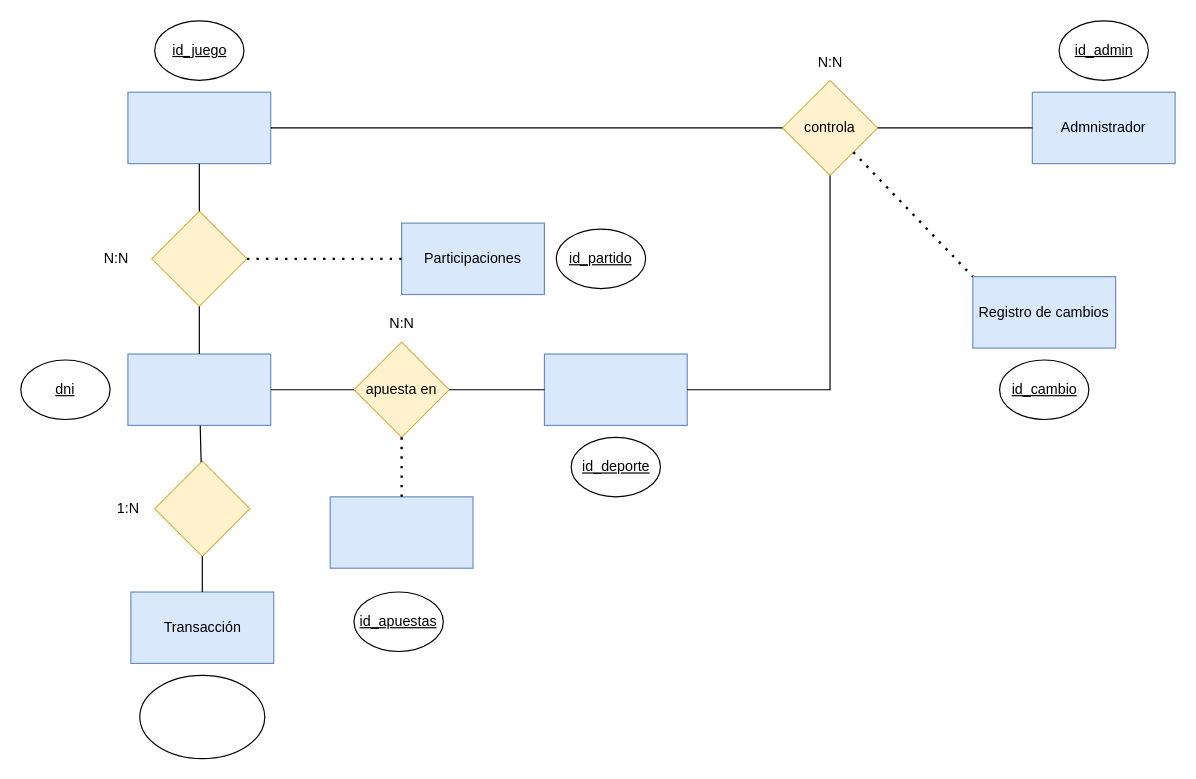
Image size: 1196x779. Some labels were removed from this diagram. Here are the shapes that lost their labels. From the top down, the centre of each, then its label:
At [199,127]: "Juegos".
At [199,258]: "Participa en".
At [199,389]: "Usuario".
At [615,389]: "Deportes".
At [202,508]: "Hace".
At [401,532]: "Apuestas".
At [202,716]: "id_transacción".
